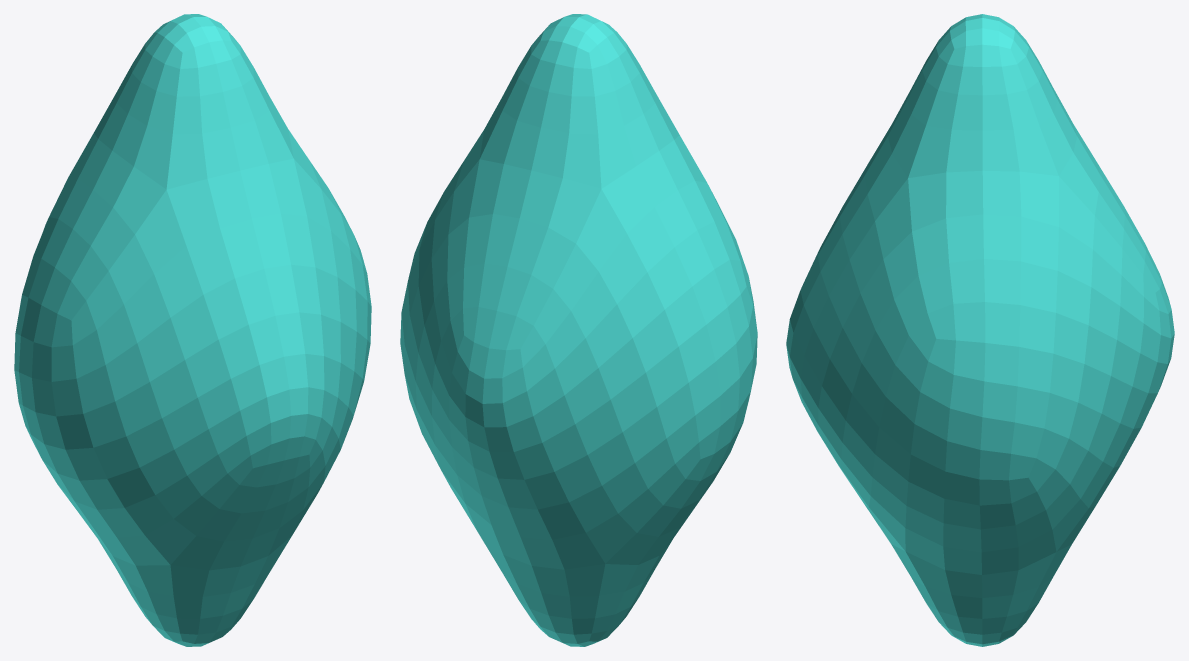
The model's file is collectable.glb.
3 views of the same model, side by side, from view 1: azimuth 30°, elevation 25°; view 2: azimuth 150°, elevation 25°; view 3: azimuth 270°, elevation 25° (orthographic).
Visible parts, largest first — view 1: Cube; view 2: Cube; view 3: Cube.
Part boxes in pixels (<box>): Cube: <box>14,14,371,646</box>; Cube: <box>400,14,757,646</box>; Cube: <box>786,14,1174,646</box>.
Size of the model in its own units: 2.32 by 4.31 by 2.43.
